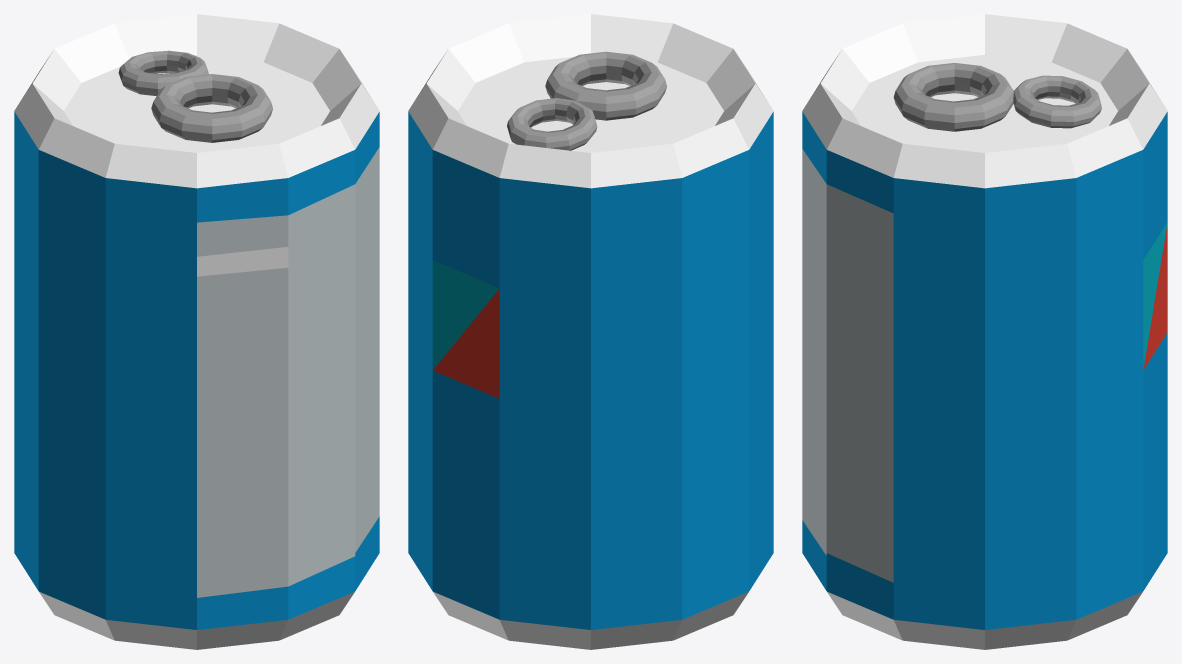
File: shield.glb
3 views of the same model, side by side, from view 1: azimuth 30°, elevation 25°; view 2: azimuth 150°, elevation 25°; view 3: azimuth 270°, elevation 25° (orthographic).
Parts seen in each view (by area): view 1: Node; view 2: Node; view 3: Node.
Boxes of the visible parts, x1,y1,x2,y2 form: Node: (14, 14, 379, 649); Node: (408, 14, 773, 649); Node: (802, 14, 1167, 649).
Bounding box in the file's own units: 0.12 × 0.18 × 0.12.
